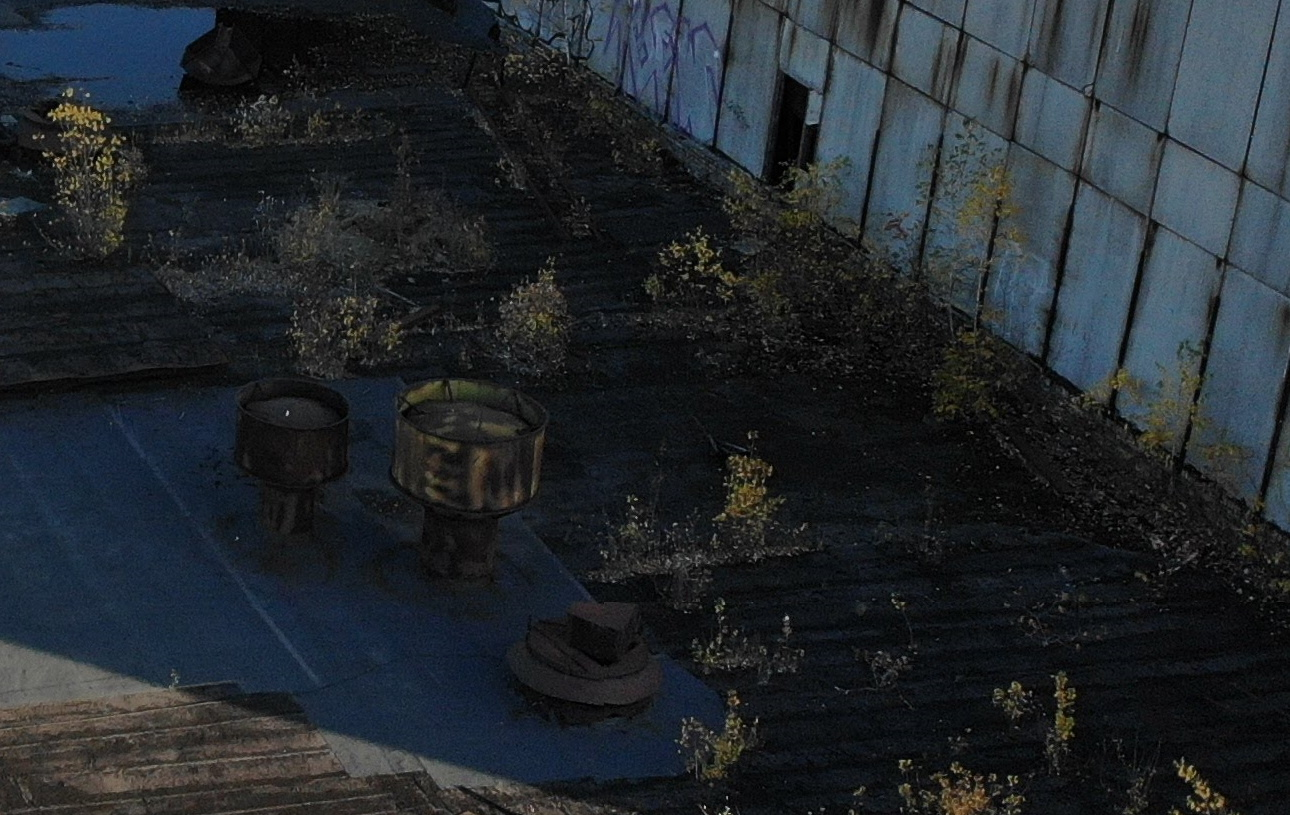tree: (890, 120, 1018, 350), (714, 152, 856, 316), (33, 79, 146, 265), (656, 221, 788, 376), (250, 176, 388, 309), (370, 133, 492, 282), (1126, 343, 1238, 502), (294, 262, 415, 394), (675, 588, 813, 696), (602, 491, 707, 604), (1027, 668, 1107, 811), (923, 330, 1019, 446), (236, 76, 365, 162), (175, 226, 284, 326), (664, 693, 760, 804), (714, 445, 803, 560), (498, 270, 582, 390), (904, 752, 1022, 812)
